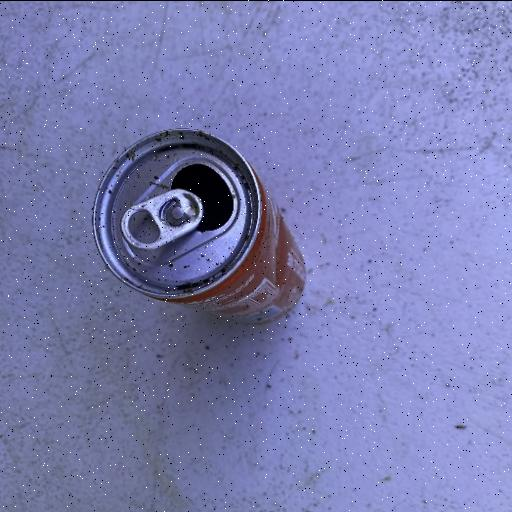Metal: (89, 126, 308, 328)
